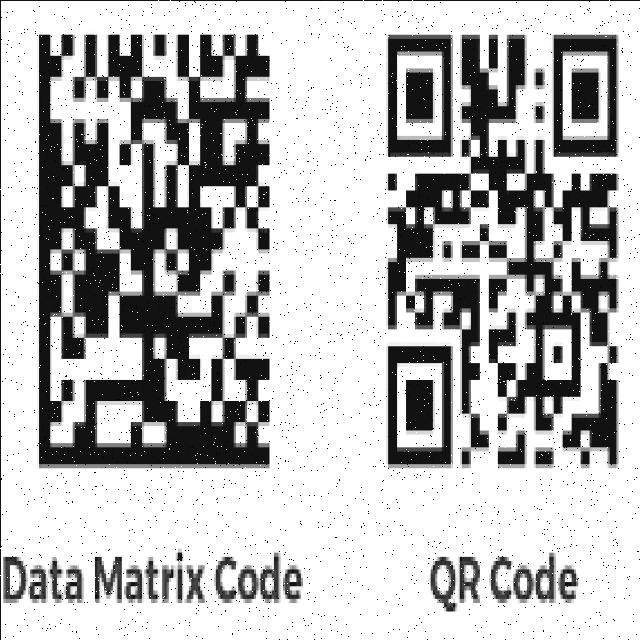datamatrix: (31, 4, 280, 497)
